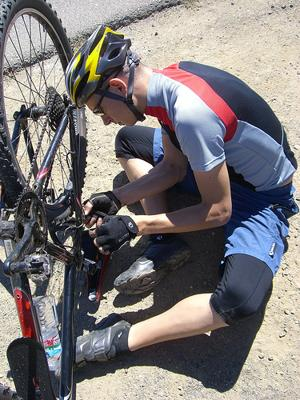person: (61, 20, 300, 370)
